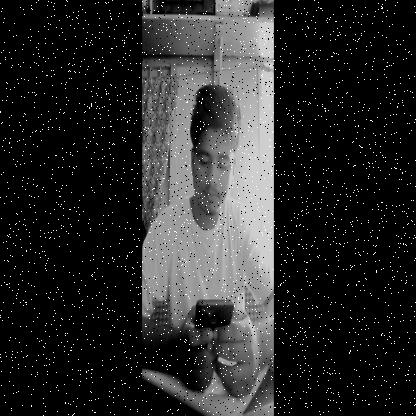Normal: (189, 84, 241, 229)
